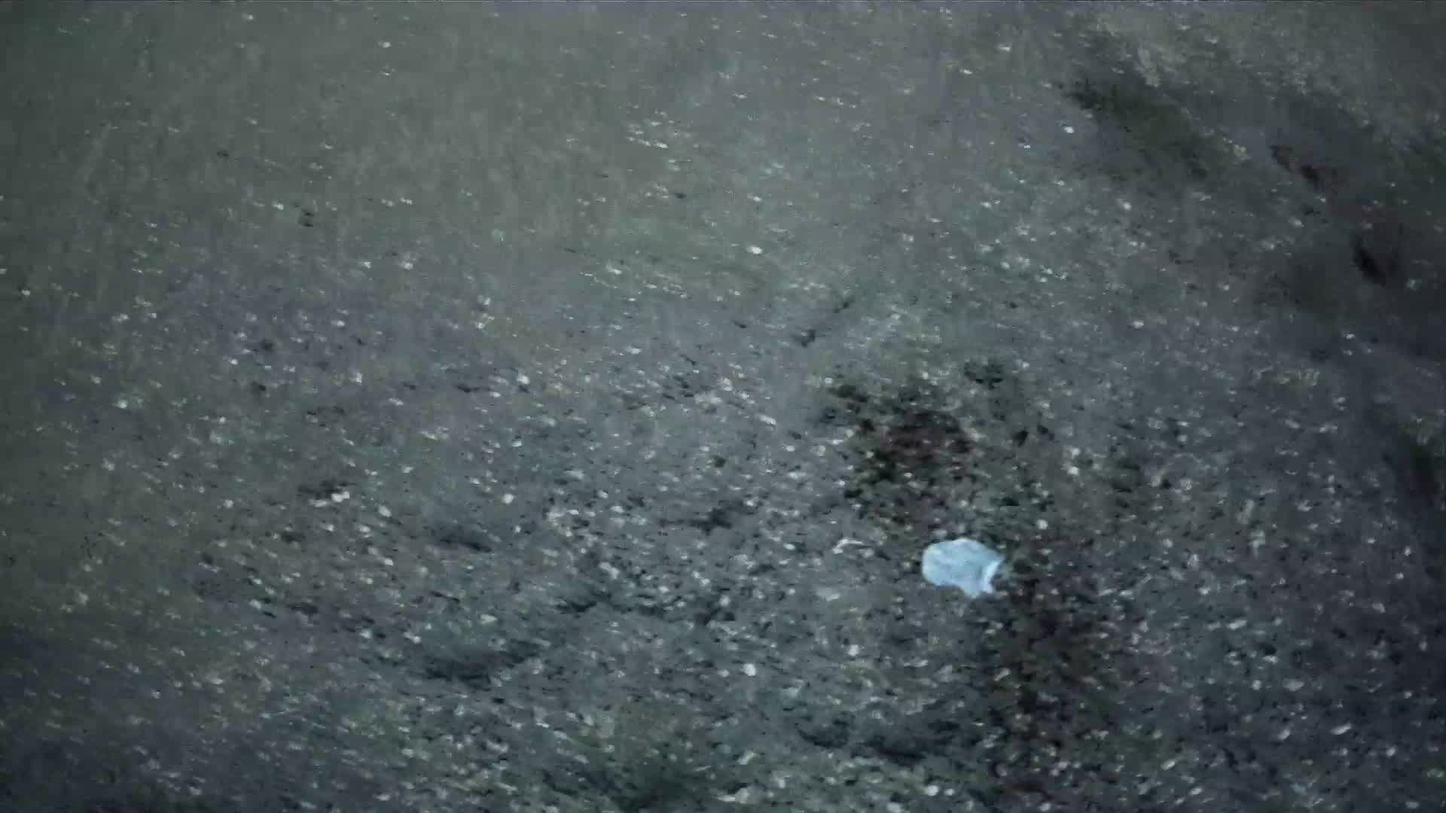Target: (919, 535, 1013, 601)
